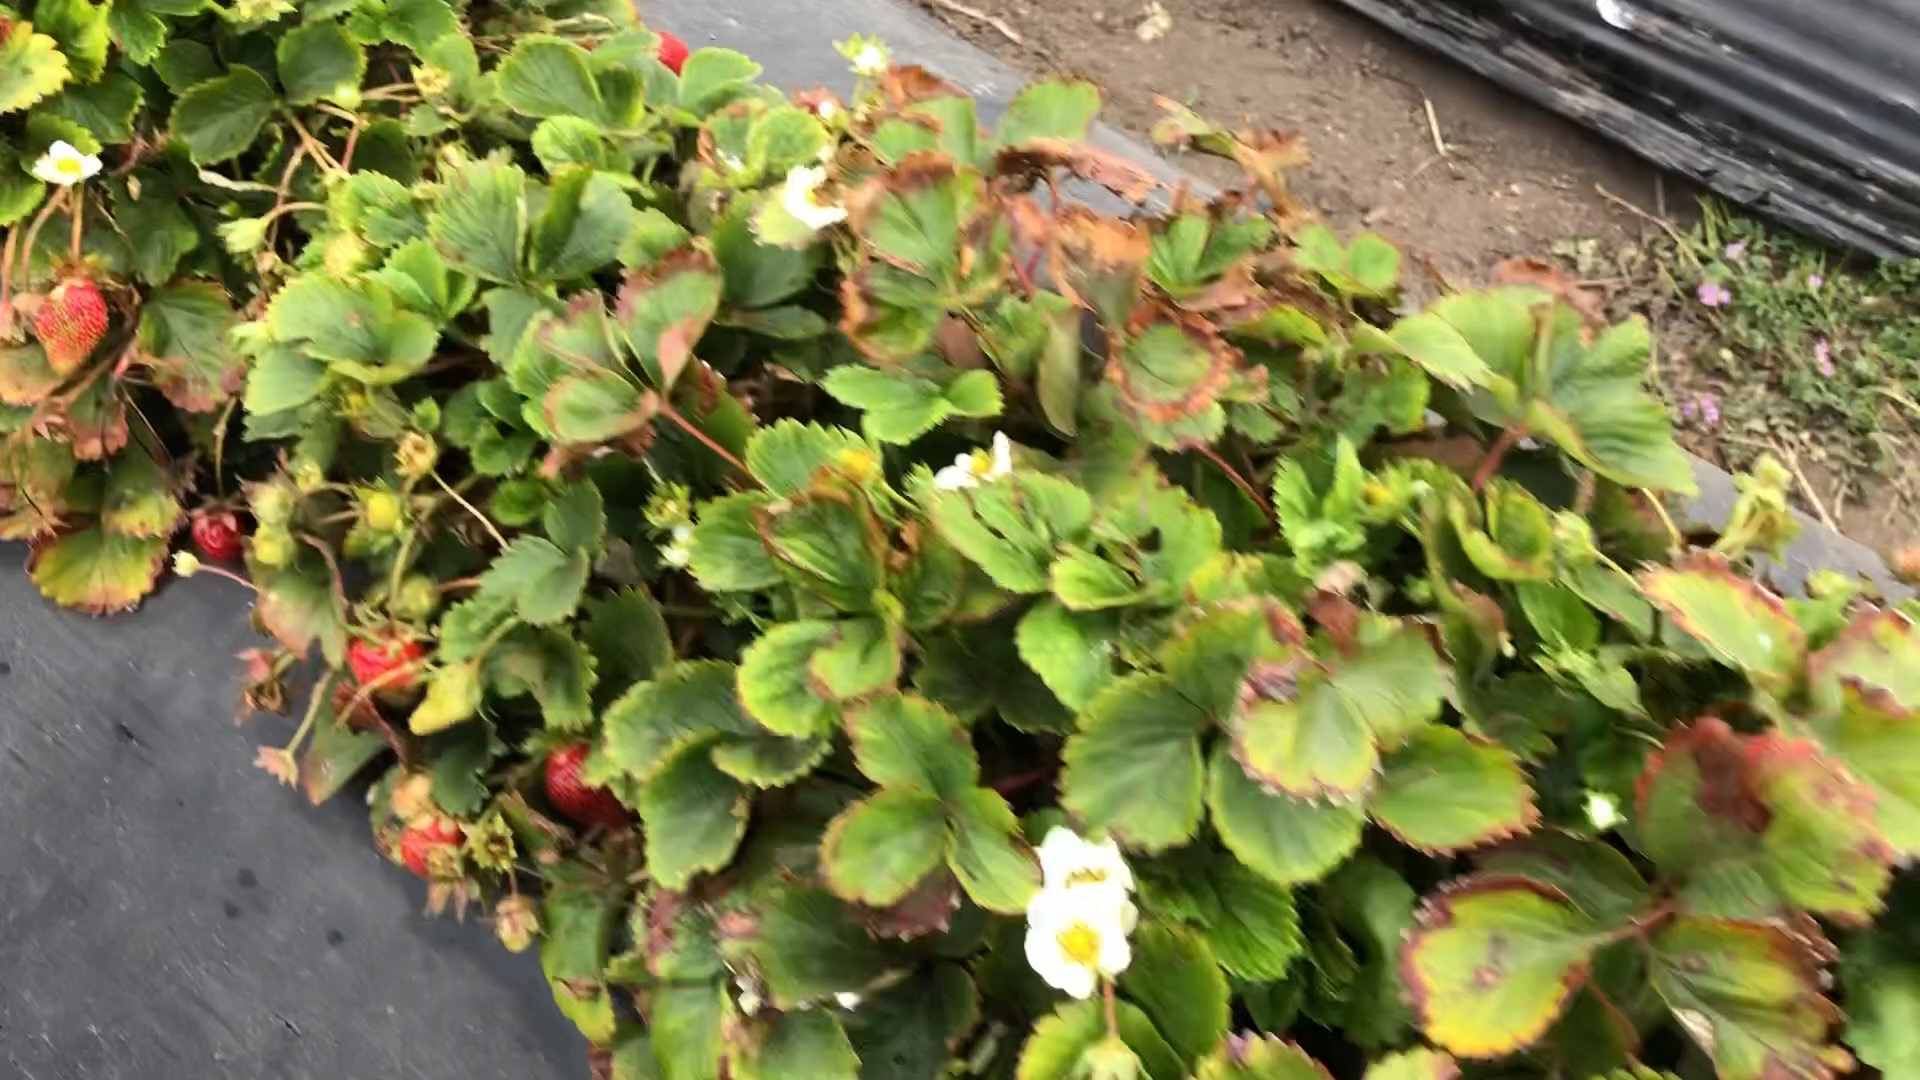ripe_strawberry: (37, 270, 112, 377), (546, 737, 632, 829), (349, 622, 425, 709), (397, 804, 464, 884), (189, 497, 245, 570)
unripe_strawberry: (405, 655, 491, 738)
